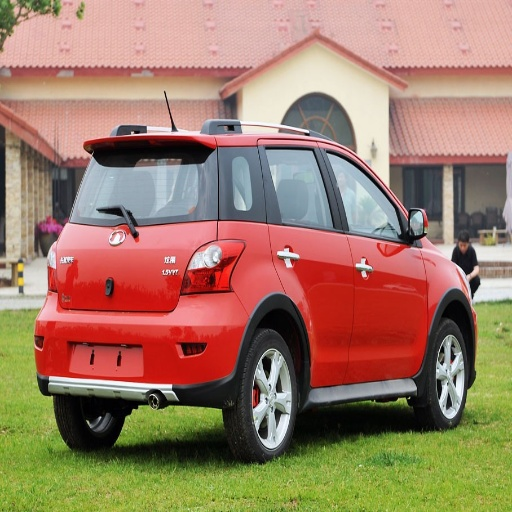back_bumper: (35, 289, 252, 398)
back_right_door: (258, 140, 354, 382)
tailgate: (36, 64, 156, 121)
trunk: (55, 225, 212, 344)
